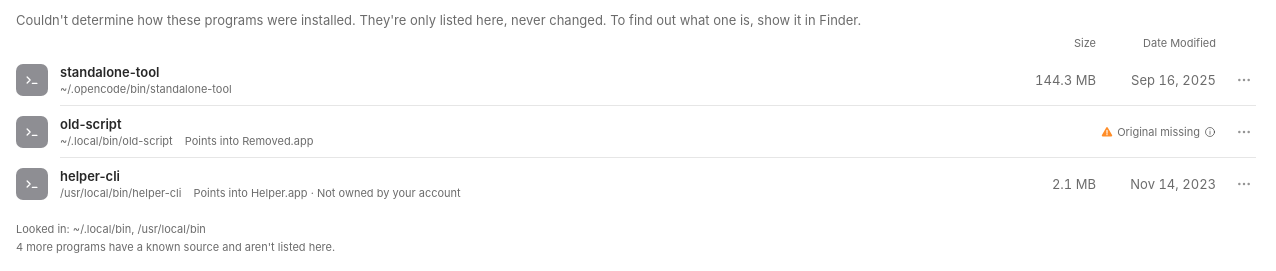
Test: a row's ⋯ menu › Show in Finder that could not show it › says so at the top of the page until a copy has a word of its own
Click the button named "More actions for " at point(1244, 80), box [1232,68,1256,92]
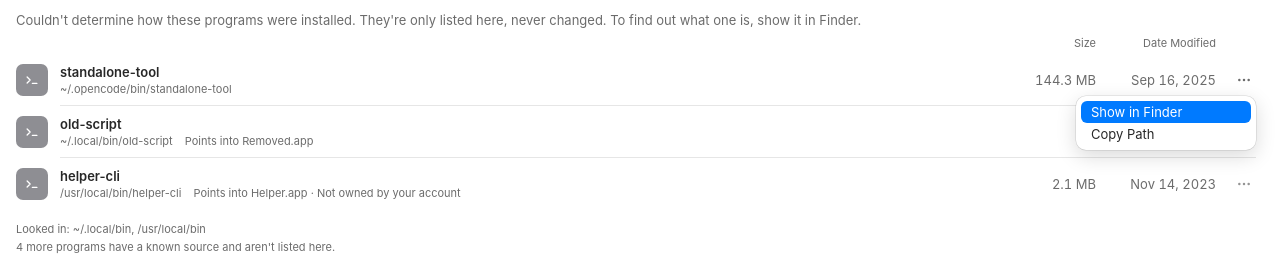
Click the menu item "Show in Finder" at point(1166, 112), box [1081,101,1251,123]
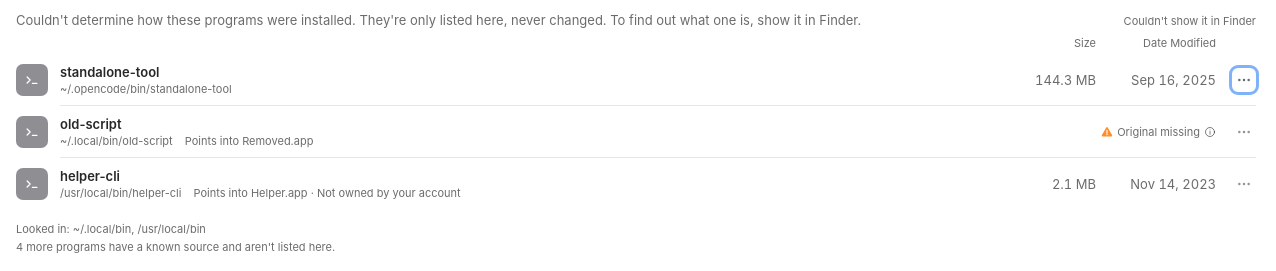
Result: the message reads "Couldn't show it in Finder" at [1124,14,1256,28]
Click the button named "More actions for " at point(1244, 80), box [1232,68,1256,92]
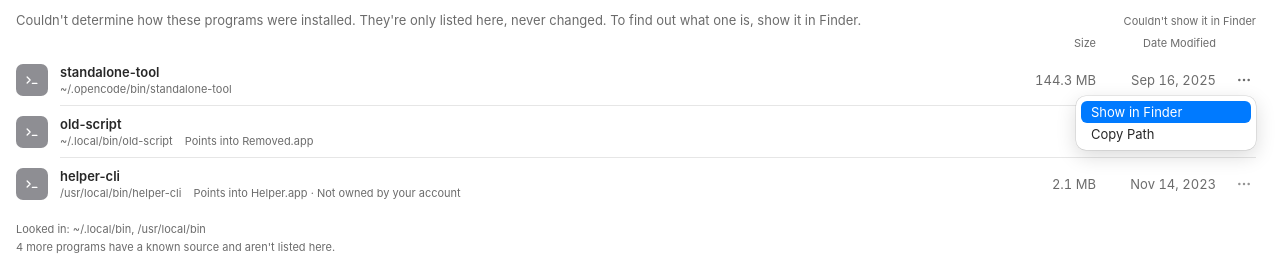
Click the menu item "Copy Path" at point(1166, 134), box [1081,123,1251,145]
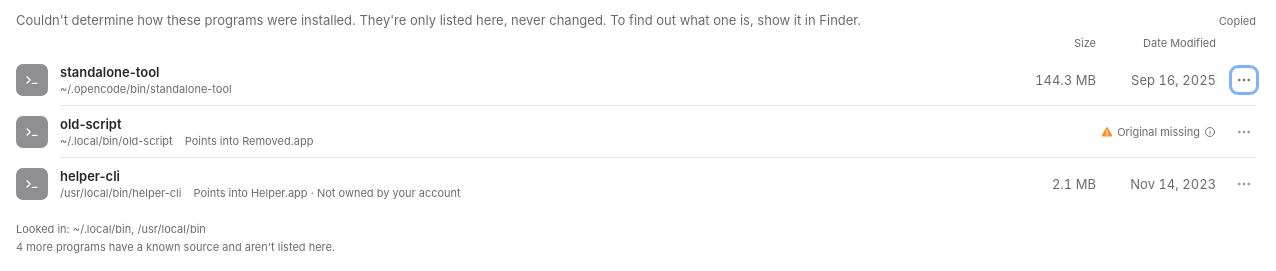
Result: the message reads "Copied" at [1219,14,1256,28]
